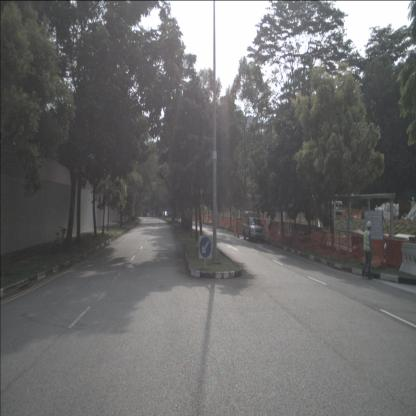barrier: (385, 240, 412, 272), (360, 238, 386, 269), (398, 242, 416, 280)
cone: (233, 226, 236, 236), (237, 230, 240, 238)
